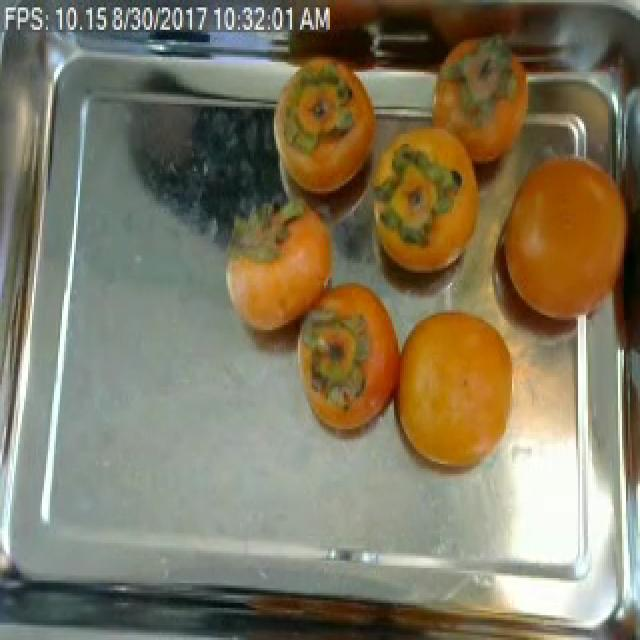Fruit: (382, 287, 528, 488), (282, 260, 412, 454), (210, 188, 350, 350), (264, 40, 390, 213)
